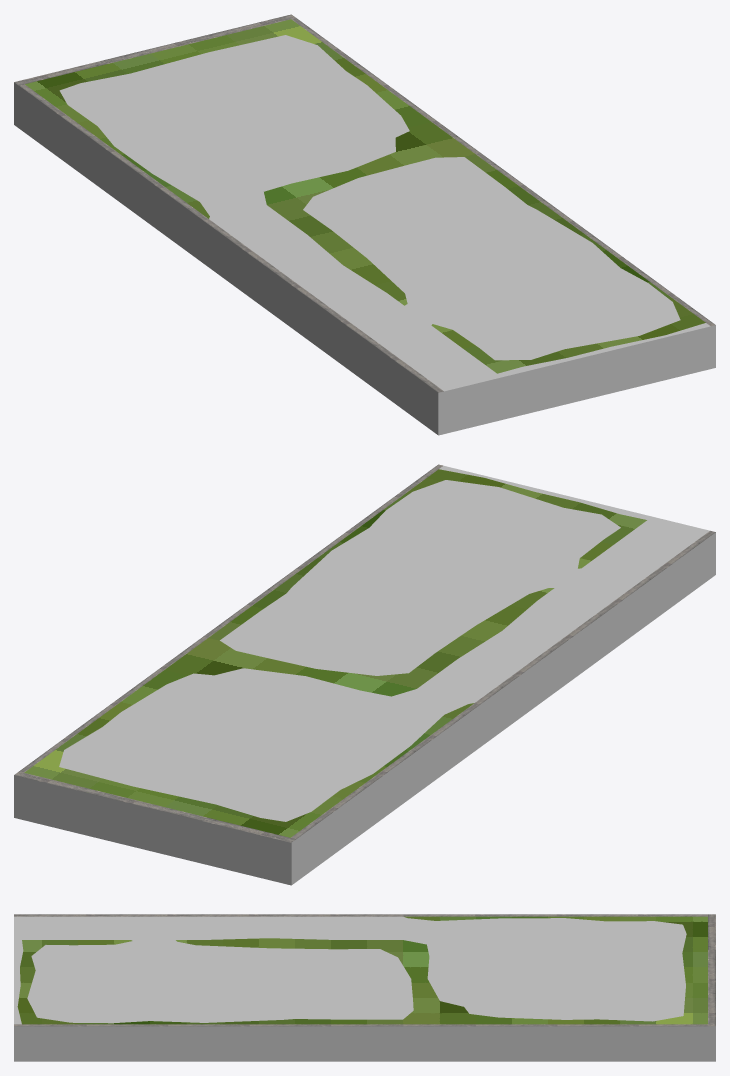
The picture shows the model from 3 angles, top to bottom: view 1: azimuth 30°, elevation 25°; view 2: azimuth 150°, elevation 25°; view 3: azimuth 270°, elevation 25°; orthographic projection. The views are drawn at different scales.
Visible parts, largest first — view 1: BB_020_d1; view 2: BB_020_d1; view 3: BB_020_d1.
Boxes of the visible parts, <box> form: BB_020_d1: <box>14,14,715,435</box>; BB_020_d1: <box>14,464,715,885</box>; BB_020_d1: <box>14,914,715,1061</box>.
Bounding box in the file's own units: 13.59 × 2 × 36.
